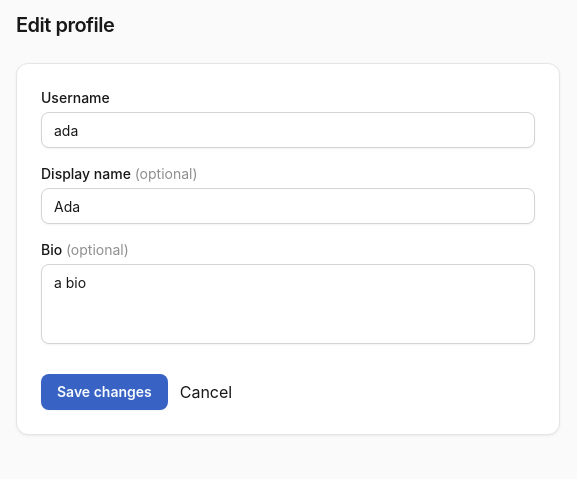
Test: a malformed username shows the shape hint and blocks submit
This screenshot has width=577, height=479.
Step 1. Replace the text in the field labelled "Username" with "No Good" → (288, 130), box [41,112,535,148]
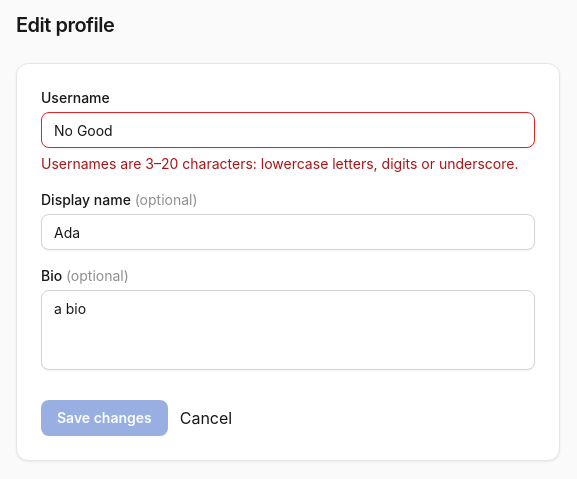
Now the message shows "lowercase letters, digits or underscore", box [41,155,518,172]
Now the button "Save changes" is disabled, box [41,400,168,436]
